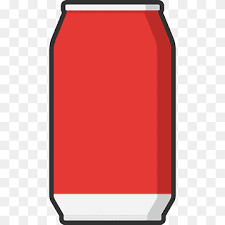can: (48, 1, 177, 225)
